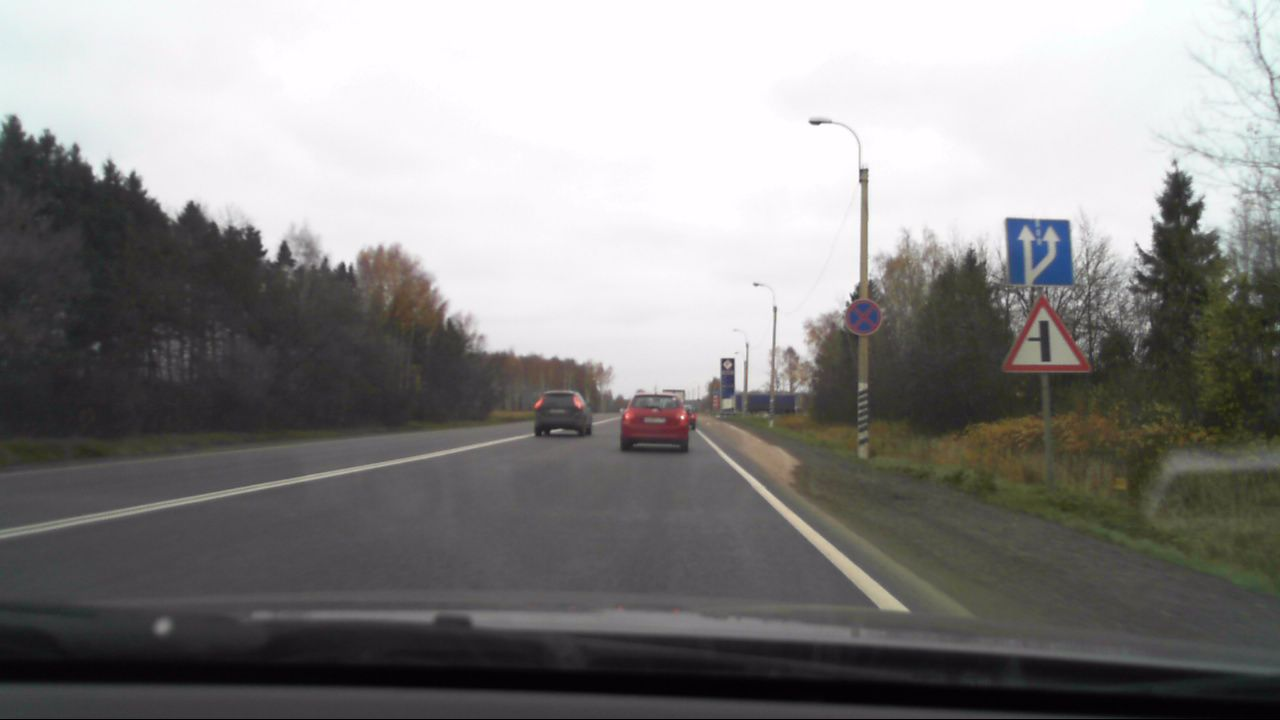No Parking: (838, 296, 881, 338)
